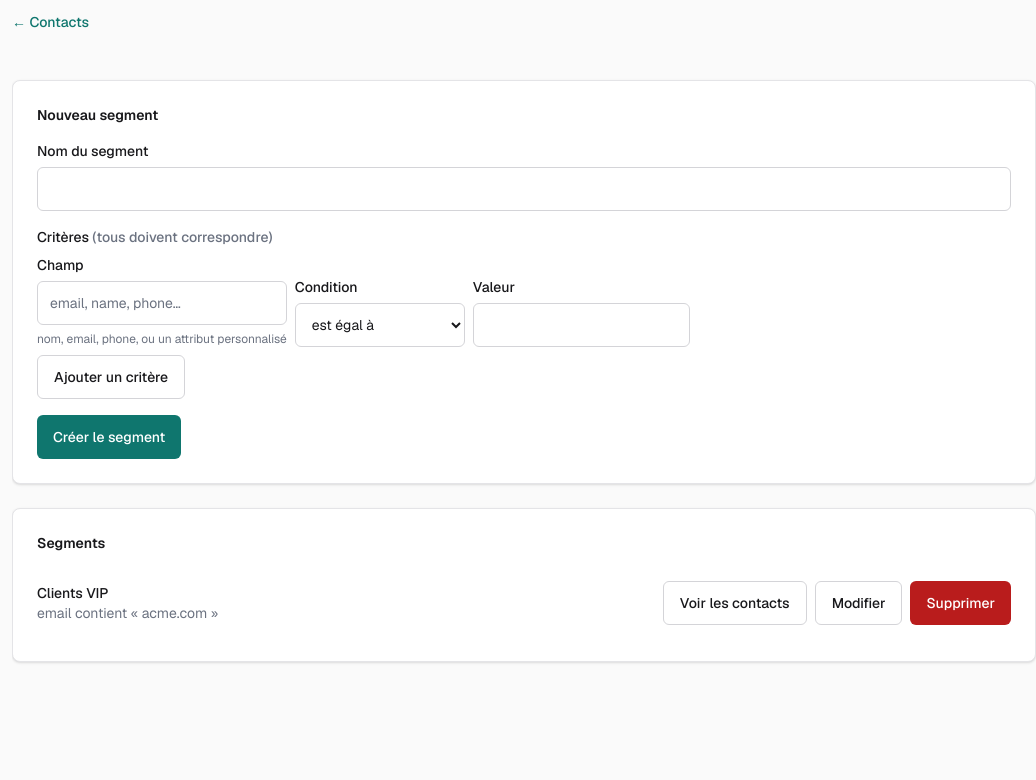
it: ContactSegmentsPage › liste les segments et en cree un nouveau
Expected: the text "Clients VIP" is shown, [37,584,108,602]
Expected: the text "email contient « acme.com »" is shown, [37,603,218,623]
Step 1. Type "Sans téléphone" into the field labelled "Nom du segment" → [524, 189], box [37,167,1011,211]
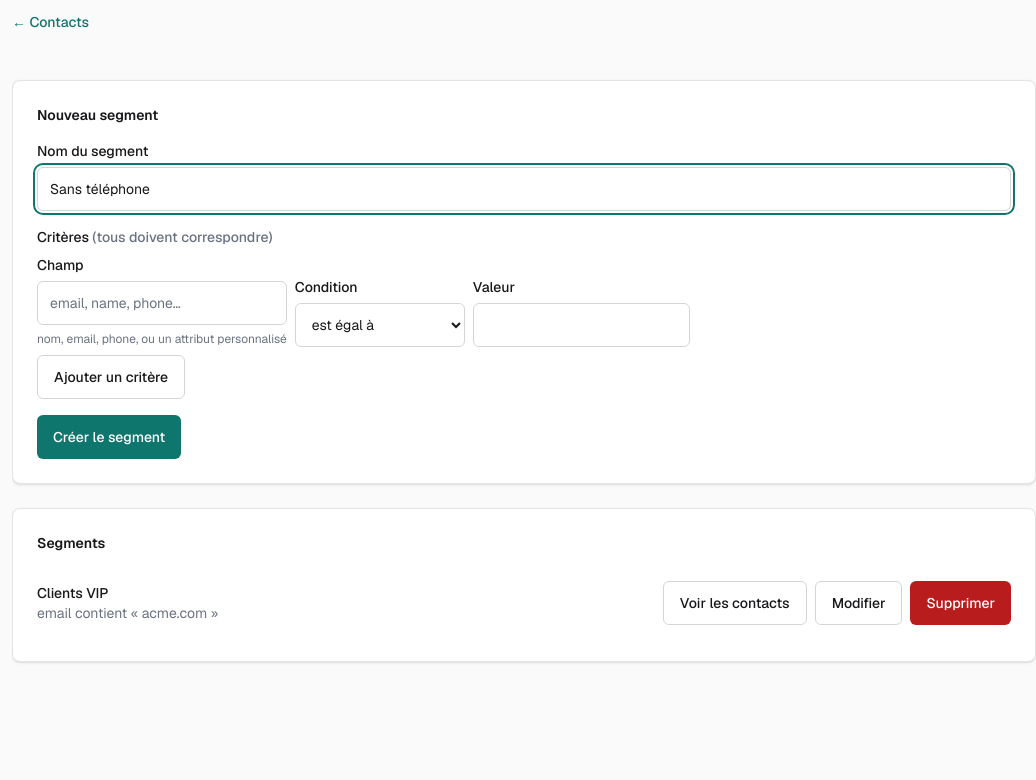
Step 2. Type "phone" into the field labelled "Champ" → [162, 303], box [37,281,287,325]
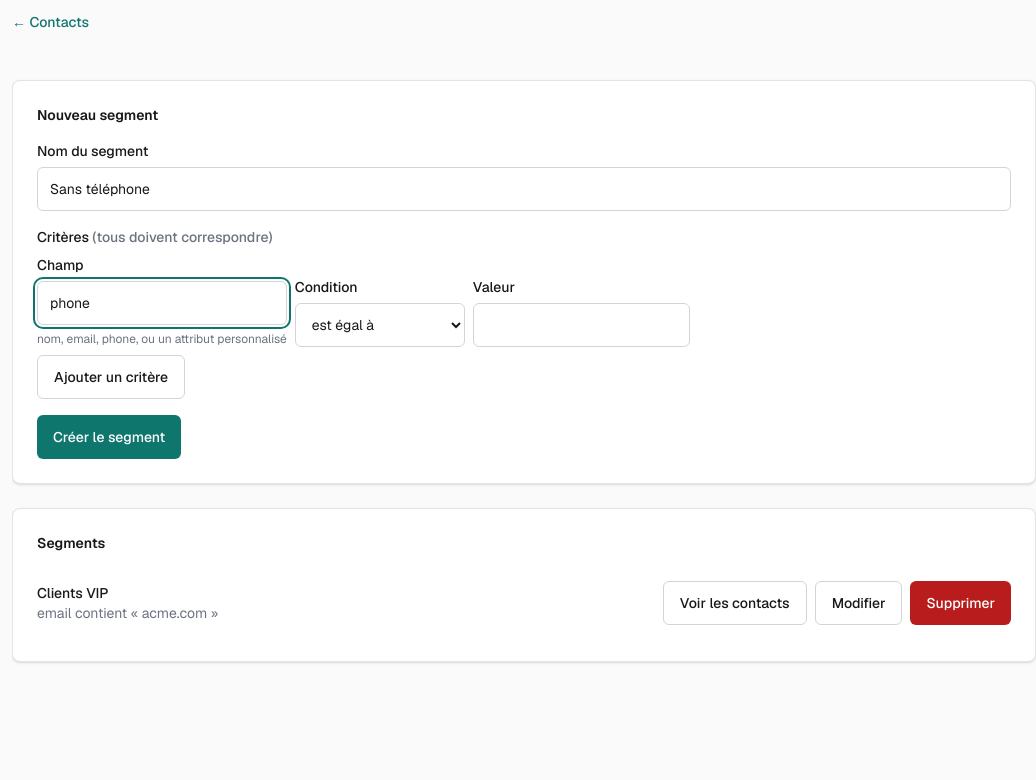
Step 3. Select "n'est pas renseigné" in the dropdown labelled "Condition" → [380, 325], box [295,303,465,347]
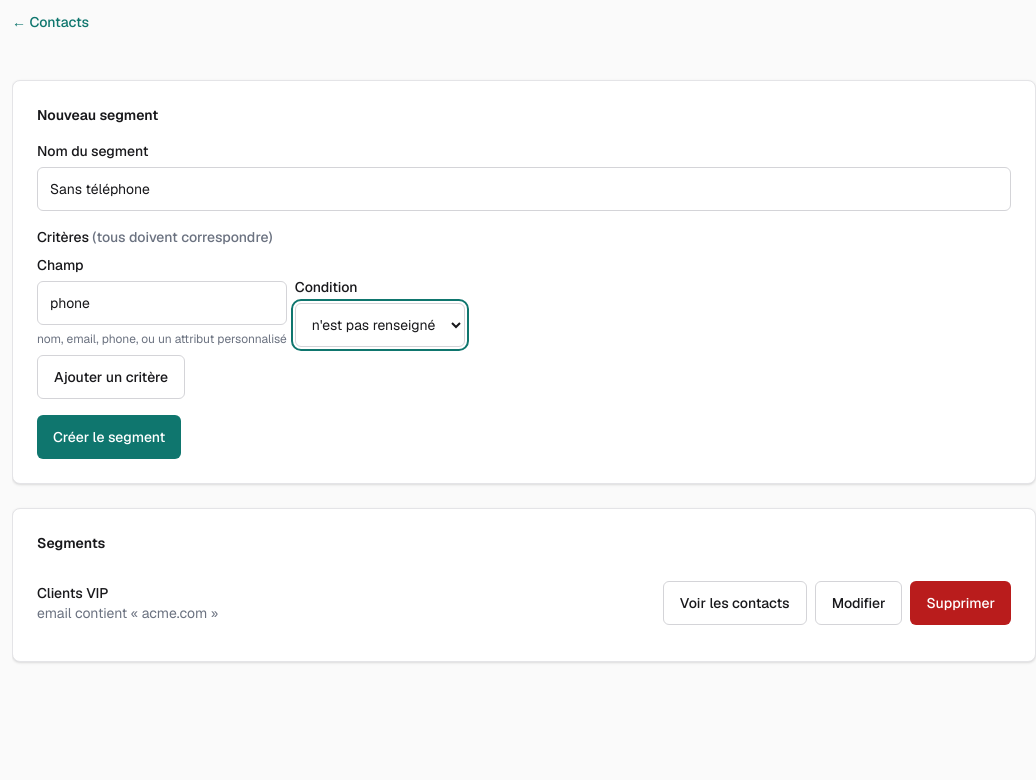
Step 4. Click the button "Créer le segment" → [109, 437], box [37,415,181,459]
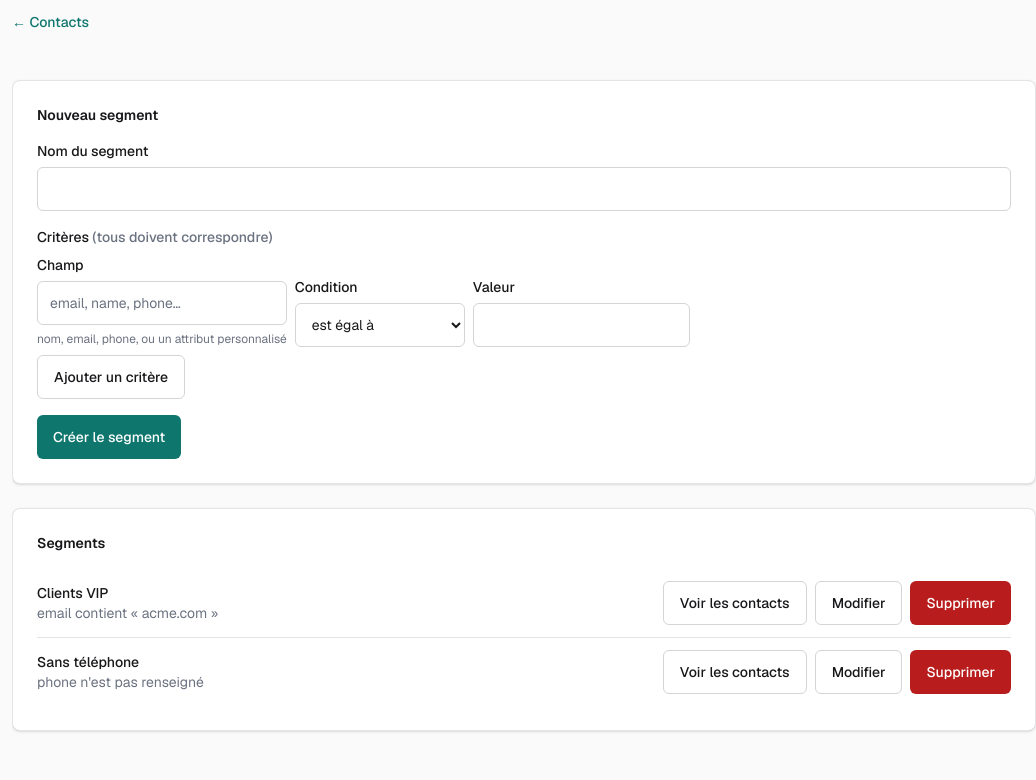
Now the text "Sans téléphone" is shown, box [37,653,139,671]
